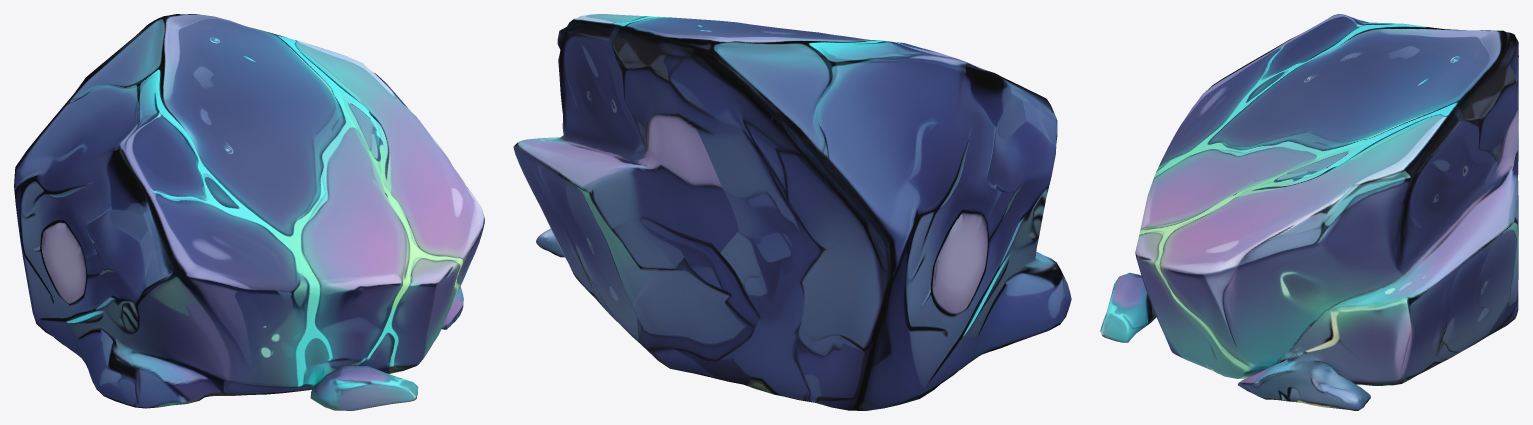
The model's file is base_basic_shaded.glb.
3 views of the same model, side by side, from view 1: azimuth 30°, elevation 25°; view 2: azimuth 150°, elevation 25°; view 3: azimuth 270°, elevation 25° (orthographic). The views are drawn at different scales.
Visible parts, largest first — view 1: model; view 2: model; view 3: model.
Boxes of the visible parts, x1,y1,x2,y2 form: model: (14, 14, 484, 410); model: (513, 14, 1071, 410); model: (1100, 14, 1518, 410).
Size of the model in its own units: 1.83 by 1.21 by 1.67.
1 material, 1 textured.
